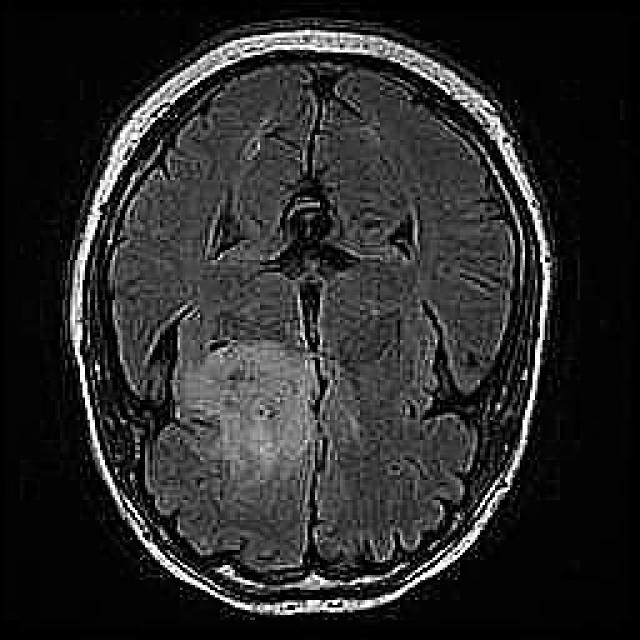Tumor-Cell: (200, 323, 344, 468)
